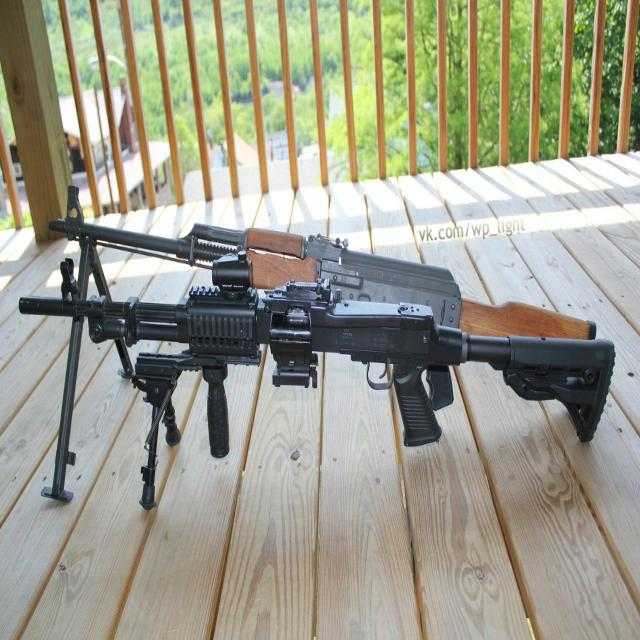firearm: (19, 262, 613, 442), (48, 184, 592, 340)
